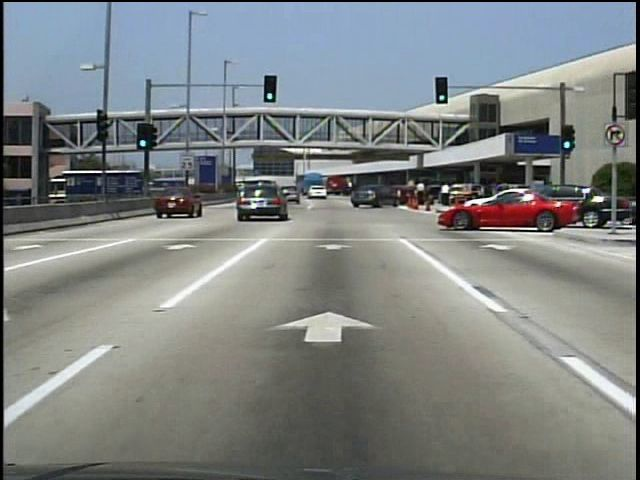person: (414, 178, 430, 210), (440, 186, 455, 212), (222, 132, 230, 148)
